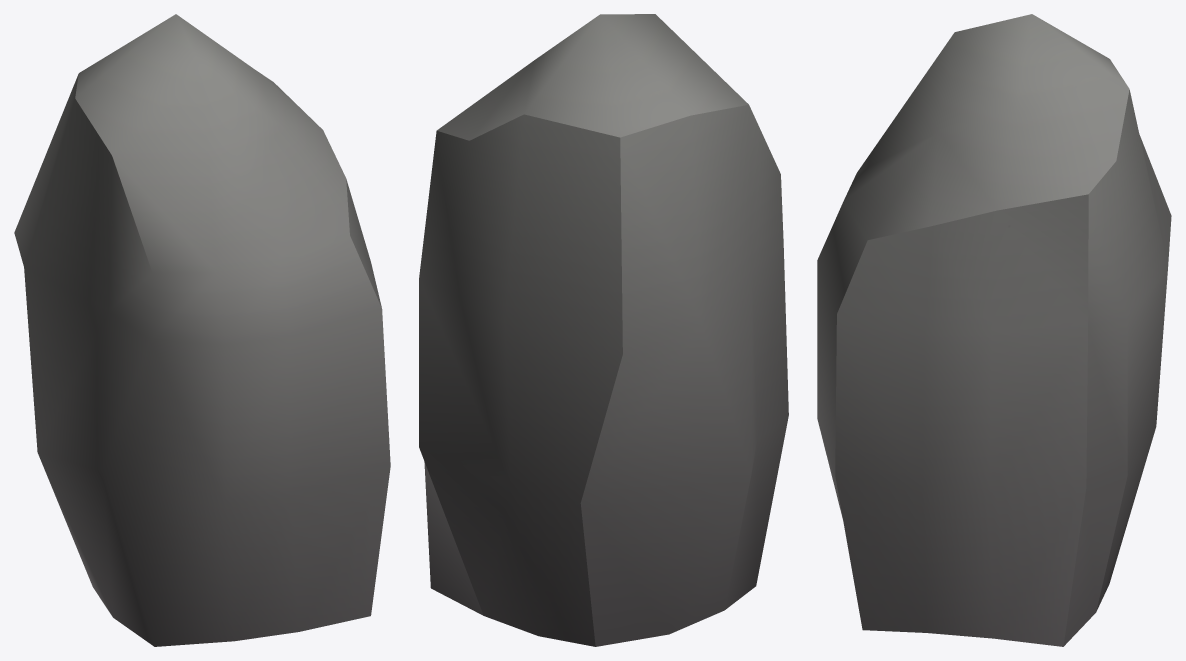
File: Rock_3.fbx
3 views of the same model, side by side, from view 1: azimuth 30°, elevation 25°; view 2: azimuth 150°, elevation 25°; view 3: azimuth 270°, elevation 25° (orthographic). The views are drawn at different scales.
Parts seen in each view (by area): view 1: Rock_3; view 2: Rock_3; view 3: Rock_3.
Part boxes in pixels (x1,y1,x2,y2): Rock_3: (14, 14, 390, 646); Rock_3: (419, 14, 788, 646); Rock_3: (817, 14, 1171, 646).
Bounding box in the file's own units: 0.4655 × 0.8253 × 0.4705.
